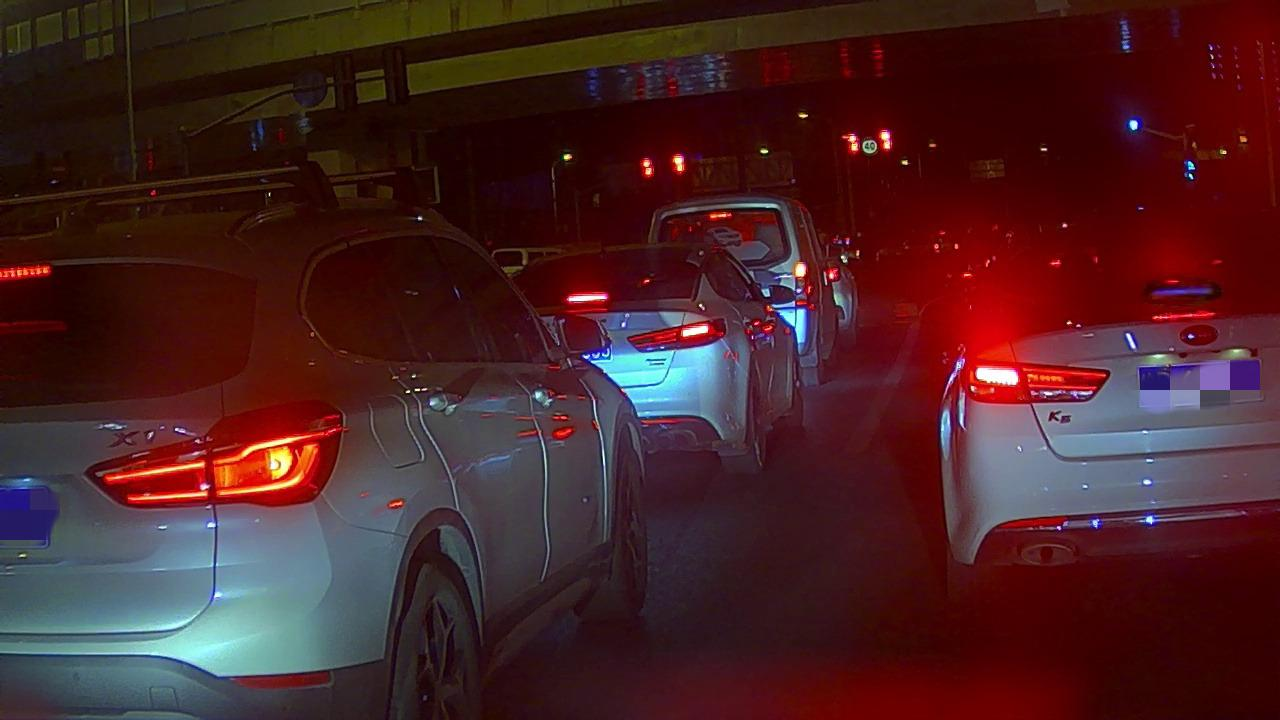traffic_light: (669, 149, 690, 178), (876, 126, 896, 156), (638, 155, 656, 180), (845, 131, 861, 156)
